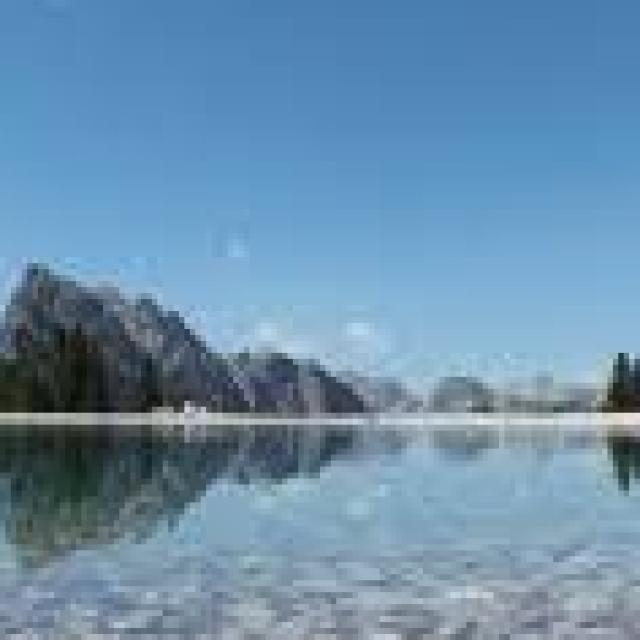-: (0, 431, 640, 538)
